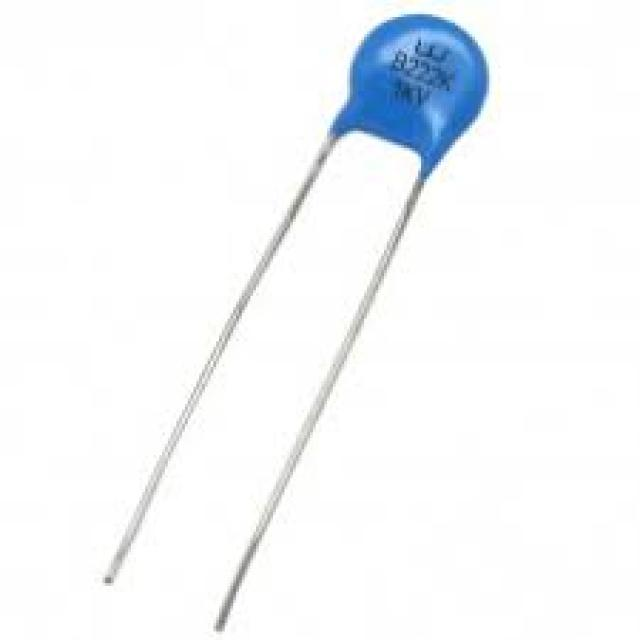Resistor: (105, 14, 489, 626)
